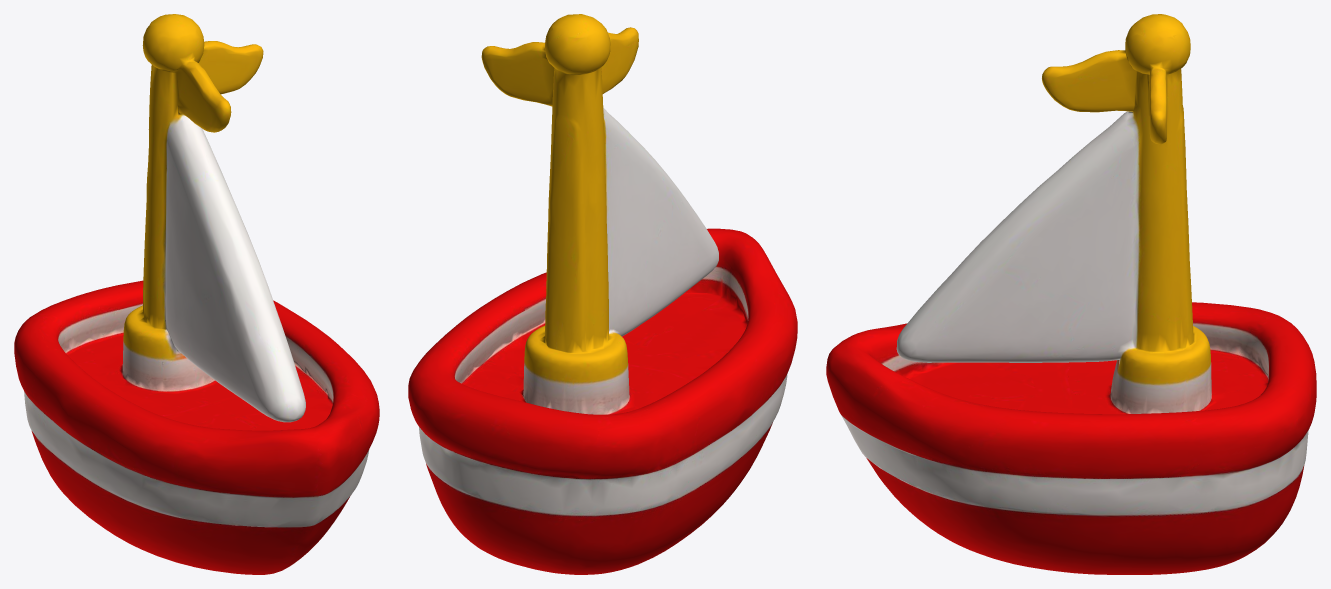
The model's file is boat.glb.
3 renders of one model, left to right at view 1: azimuth 30°, elevation 25°; view 2: azimuth 150°, elevation 25°; view 3: azimuth 270°, elevation 25°, orthographic. The views are drawn at different scales.
Visible parts, largest first — view 1: tripo_node_c66efbce-1cc4-479d-8022-1f87408efc27; view 2: tripo_node_c66efbce-1cc4-479d-8022-1f87408efc27; view 3: tripo_node_c66efbce-1cc4-479d-8022-1f87408efc27.
Boxes of the visible parts, box(x1,y1,x2,y2) form: tripo_node_c66efbce-1cc4-479d-8022-1f87408efc27: box(14, 14, 379, 574); tripo_node_c66efbce-1cc4-479d-8022-1f87408efc27: box(408, 14, 797, 574); tripo_node_c66efbce-1cc4-479d-8022-1f87408efc27: box(826, 14, 1316, 574).
Size of the model in its own units: 0.5413 by 0.9793 by 0.8247.
Materials: 1 (1 with a texture image).
